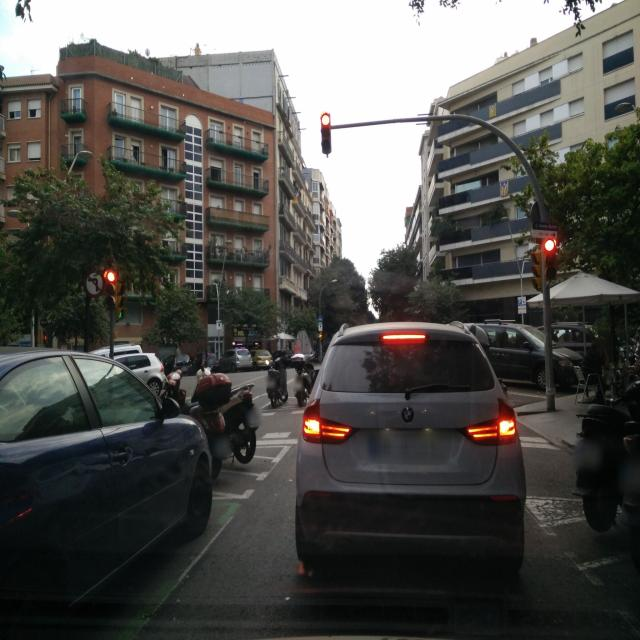bike: (573, 350, 640, 534), (178, 351, 260, 470), (266, 353, 291, 407), (292, 351, 312, 406)
car: (0, 349, 213, 639), (294, 320, 527, 583), (451, 321, 581, 392), (535, 321, 601, 375), (102, 352, 167, 397), (213, 348, 254, 372), (251, 349, 273, 370)
